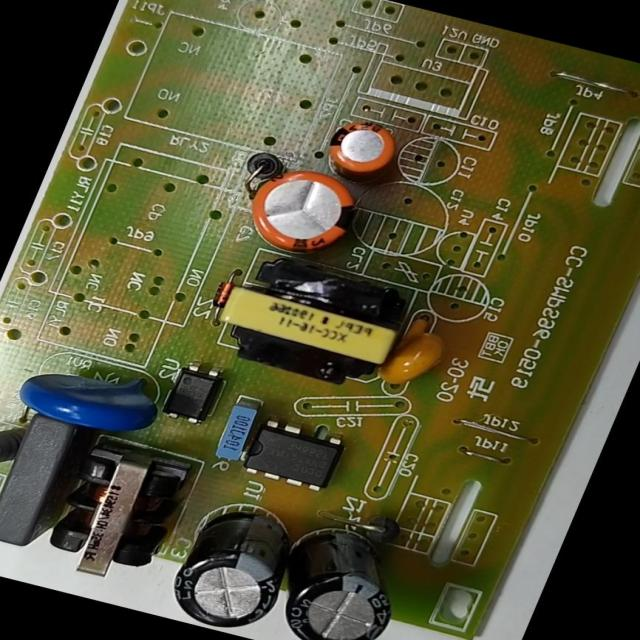Cap1: (231, 159, 377, 266)
Cap2: (317, 111, 412, 186)
Cap3: (274, 554, 408, 640)
Cap4: (132, 526, 306, 639)
MOSFET: (227, 412, 361, 502)
Mov: (9, 358, 171, 450)
Resistor: (0, 417, 26, 487)
Transformer: (190, 247, 425, 401), (20, 433, 205, 598)
